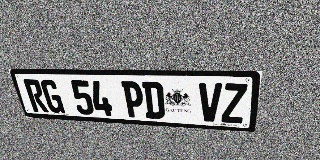4: (88, 80, 113, 116)
5: (70, 80, 95, 115)
D: (142, 81, 165, 119)
G: (39, 79, 65, 113)
P: (121, 81, 145, 118)
R: (23, 79, 49, 113)
V: (199, 83, 222, 122)
Z: (221, 83, 248, 124)
